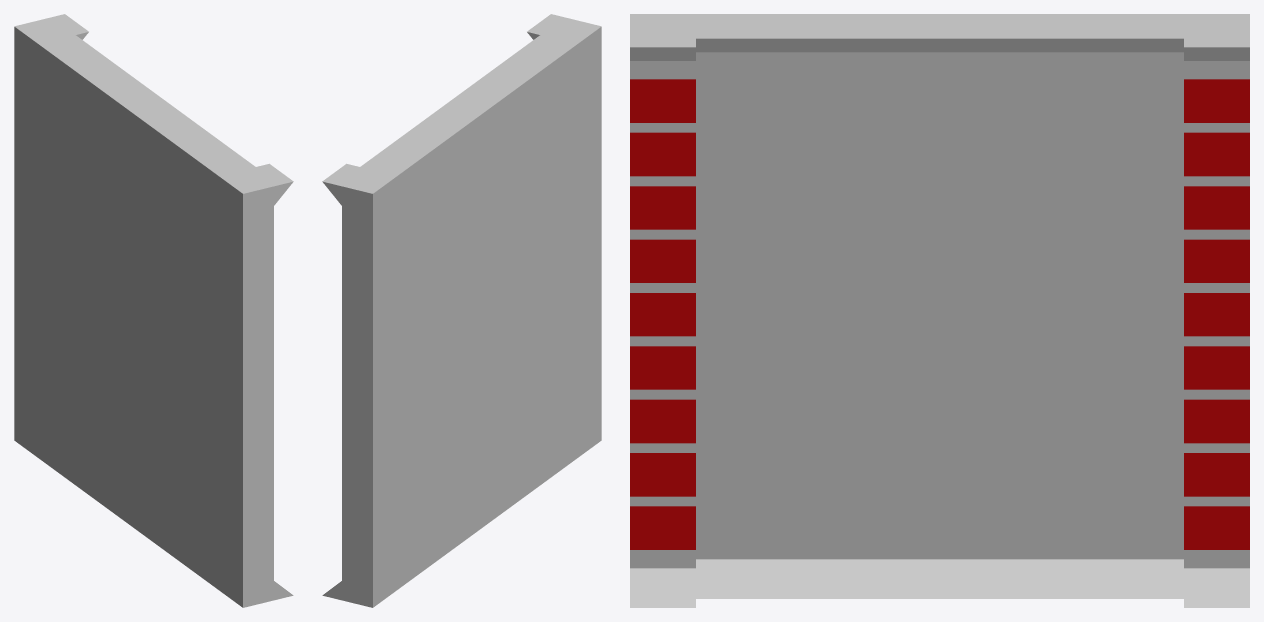
The picture shows the model from 3 angles, left to right: view 1: azimuth 30°, elevation 25°; view 2: azimuth 150°, elevation 25°; view 3: azimuth 270°, elevation 25°; orthographic projection. The views are drawn at different scales.
Visible parts, largest first — view 1: Cube; view 2: Cube; view 3: Cube.
Part boxes in pixels (x1,y1,x2,y2): Cube: (14, 14, 293, 607); Cube: (322, 14, 601, 607); Cube: (630, 14, 1249, 607).
Size of the model in its own units: 122 by 954 by 956.
